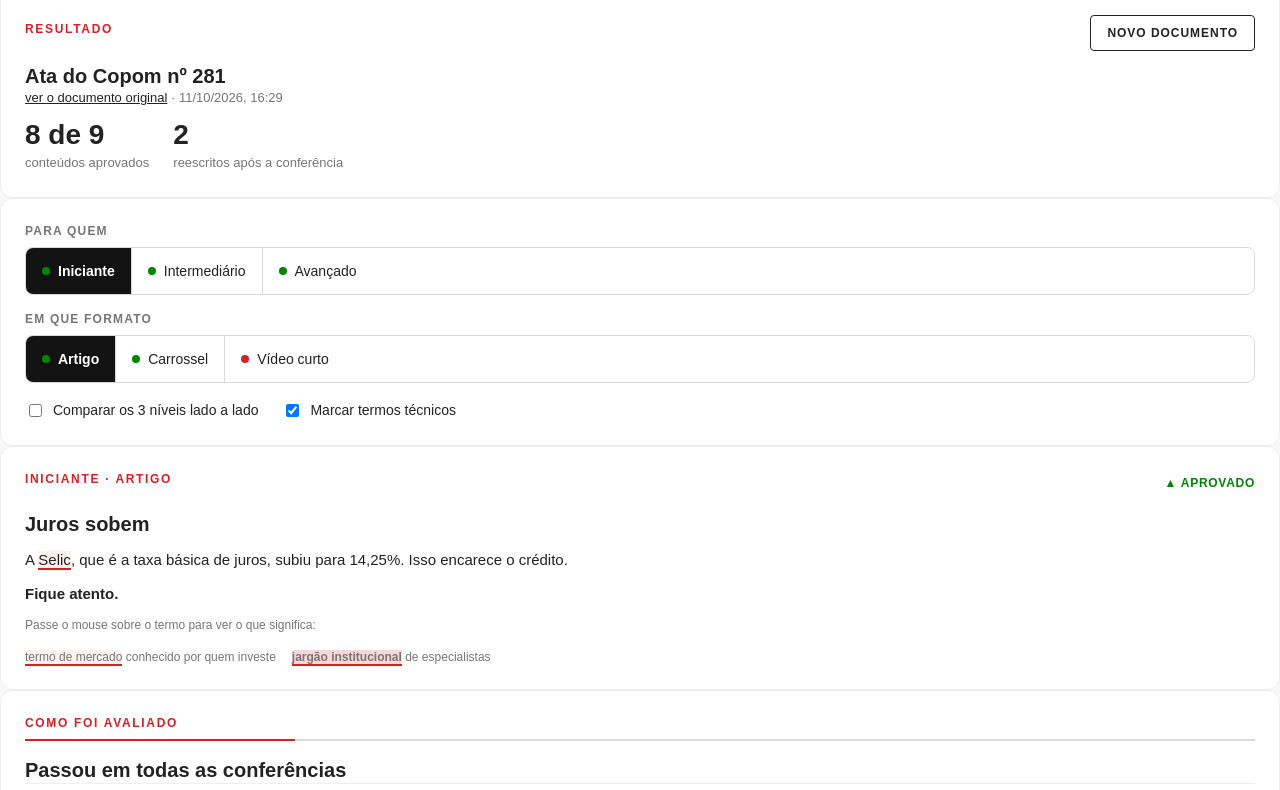
Scenario: Avaliação › conteúdo escrito de primeira não oferece comparação
Step 1. Click the button "Carrossel" → (171, 359), box [116,336,225,382]
(page scrolled)
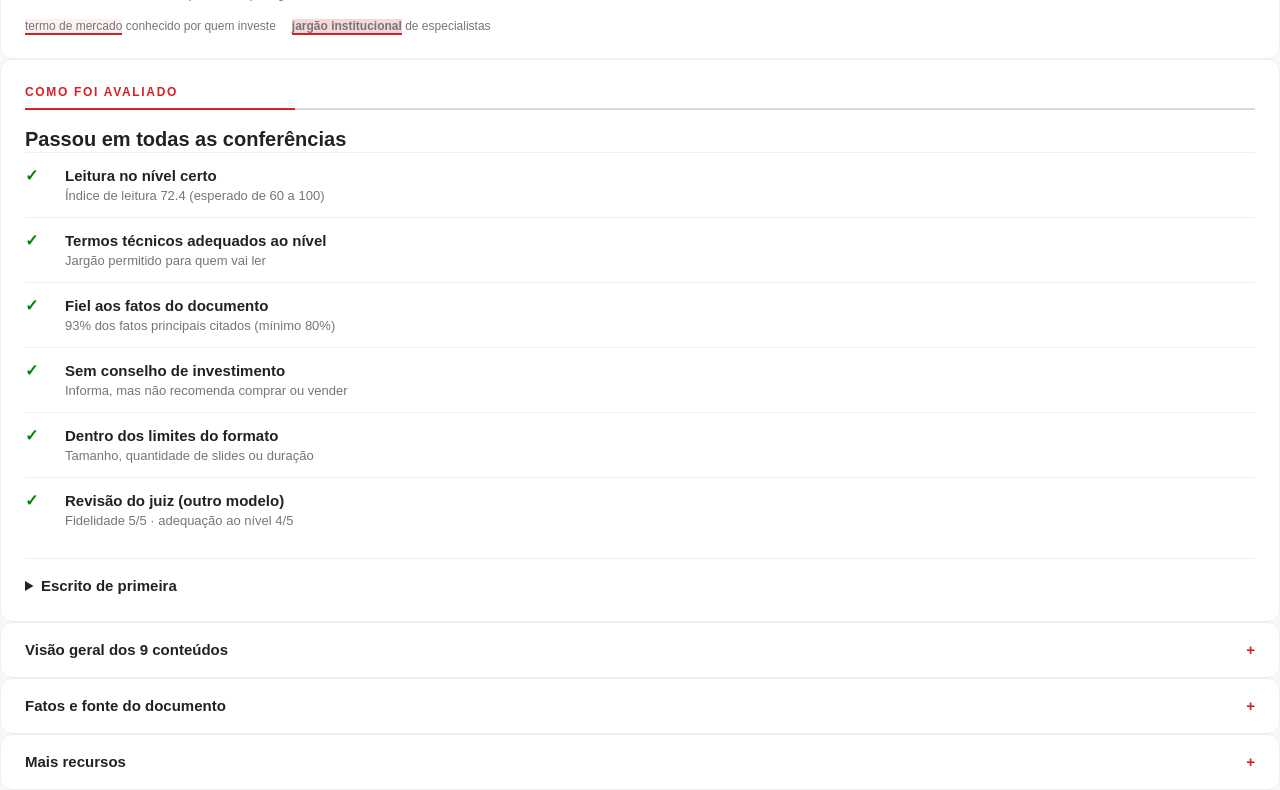
Expected: the heading "Escrito de primeira" is shown, [41,577,177,594]
